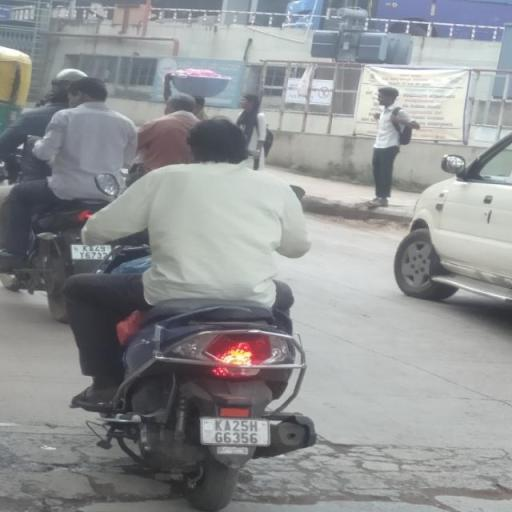bike: (46, 109, 321, 512)
numberplate: (200, 417, 272, 447)
withouthelmet: (188, 120, 246, 164)
